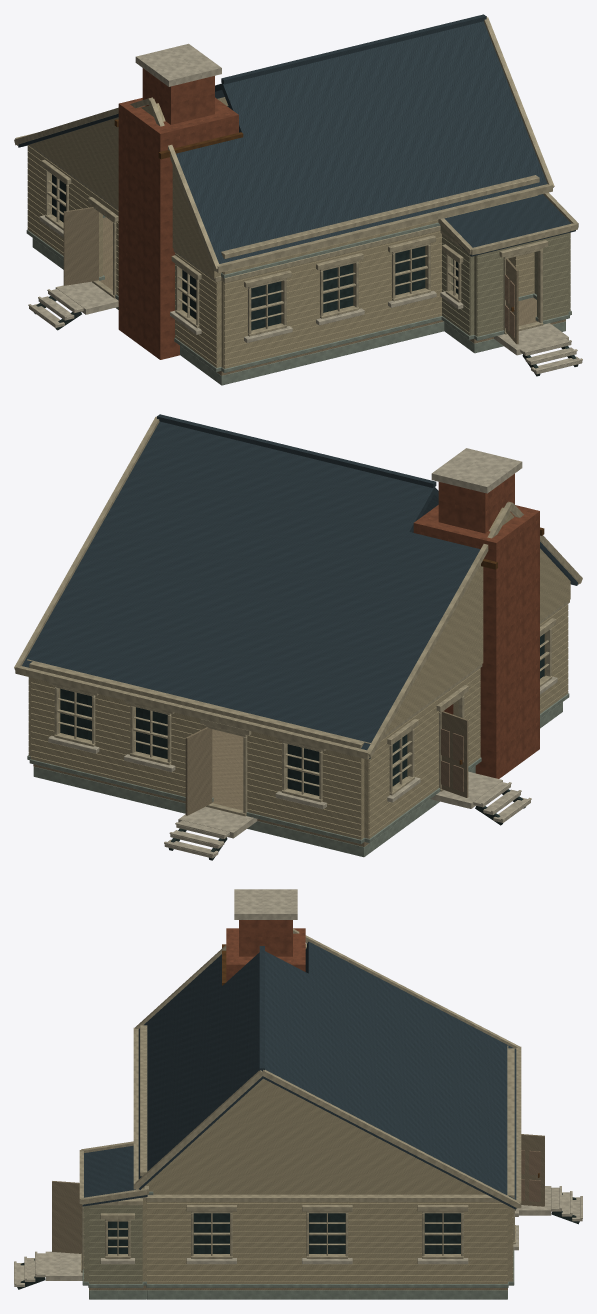
The picture shows the model from 3 angles, top to bottom: view 1: azimuth 30°, elevation 25°; view 2: azimuth 150°, elevation 25°; view 3: azimuth 270°, elevation 25°; orthographic projection. The views are drawn at different scales.
Visible parts, largest first — view 1: A011-04_11_Roof_Saltbox, A011-04_02_Clapboard, A011-04_13_Chimney_Shoulder, A011-04_04_Architectural_Trim, A011-04_01_Wall_Shell, A011-04_12_Roof_Edges, A011-04_03_Window_Door_Frames, A011-04_07_Floors, A011-04_06_Glazing, A011-04_11_Roof_Entry_Bay, A011-04_00_Foundation, A011-04_05_Door_Leaf_01 (+5 smaller); view 2: A011-04_11_Roof_Saltbox, A011-04_02_Clapboard, A011-04_13_Chimney_Shoulder, A011-04_04_Architectural_Trim, A011-04_01_Wall_Shell, A011-04_12_Roof_Edges, A011-04_03_Window_Door_Frames, A011-04_07_Floors, A011-04_06_Glazing, A011-04_00_Foundation, A011-04_13_Chimney_Stack, A011-04_08_Stairs (+3 smaller); view 3: A011-04_11_Roof_Saltbox, A011-04_02_Clapboard, A011-04_01_Wall_Shell, A011-04_04_Architectural_Trim, A011-04_12_Roof_Edges, A011-04_06_Glazing, A011-04_00_Foundation, A011-04_03_Window_Door_Frames, A011-04_07_Floors, A011-04_11_Roof_Entry_Bay, A011-04_05_Door_Leaf_02, A011-04_13_Chimney_Cap (+4 smaller).
Boxes of the visible parts, x1=… form: A011-04_11_Roof_Saltbox: x1=18, y1=14, x2=547, y2=263; A011-04_02_Clapboard: x1=27, y1=145, x2=570, y2=368; A011-04_13_Chimney_Shoulder: x1=118, y1=97, x2=238, y2=359; A011-04_04_Architectural_Trim: x1=26, y1=97, x2=571, y2=372; A011-04_01_Wall_Shell: x1=31, y1=98, x2=569, y2=368; A011-04_12_Roof_Edges: x1=14, y1=16, x2=578, y2=272; A011-04_03_Window_Door_Frames: x1=45, y1=169, x2=543, y2=336; A011-04_07_Floors: x1=55, y1=217, x2=568, y2=375; A011-04_06_Glazing: x1=52, y1=106, x2=458, y2=330; A011-04_11_Roof_Entry_Bay: x1=444, y1=194, x2=575, y2=256; A011-04_00_Foundation: x1=32, y1=238, x2=565, y2=385; A011-04_05_Door_Leaf_01: x1=63, y1=207, x2=98, y2=285; A011-04_11_Roof_Saltbox: x1=22, y1=414, x2=577, y2=758; A011-04_02_Clapboard: x1=28, y1=604, x2=568, y2=839; A011-04_13_Chimney_Shoulder: x1=413, y1=505, x2=539, y2=778; A011-04_04_Architectural_Trim: x1=27, y1=600, x2=569, y2=843; A011-04_01_Wall_Shell: x1=29, y1=507, x2=570, y2=838; A011-04_12_Roof_Edges: x1=14, y1=416, x2=582, y2=759; A011-04_03_Window_Door_Frames: x1=54, y1=627, x2=552, y2=816; A011-04_07_Floors: x1=33, y1=729, x2=502, y2=846; A011-04_06_Glazing: x1=60, y1=634, x2=544, y2=795; A011-04_00_Foundation: x1=33, y1=702, x2=562, y2=857; A011-04_13_Chimney_Stack: x1=438, y1=473, x2=514, y2=533; A011-04_08_Stairs: x1=164, y1=782, x2=531, y2=858; A011-04_11_Roof_Saltbox: x1=138, y1=941, x2=516, y2=1209; A011-04_02_Clapboard: x1=83, y1=1188, x2=513, y2=1283; A011-04_01_Wall_Shell: x1=84, y1=944, x2=512, y2=1283; A011-04_04_Architectural_Trim: x1=82, y1=1025, x2=518, y2=1287; A011-04_12_Roof_Edges: x1=79, y1=928, x2=521, y2=1208; A011-04_06_Glazing: x1=108, y1=1213, x2=460, y2=1253; A011-04_00_Foundation: x1=89, y1=1290, x2=507, y2=1299; A011-04_03_Window_Door_Frames: x1=81, y1=1204, x2=515, y2=1272; A011-04_07_Floors: x1=45, y1=1186, x2=551, y2=1290; A011-04_11_Roof_Entry_Bay: x1=82, y1=1145, x2=147, y2=1206; A011-04_05_Door_Leaf_02: x1=52, y1=1181, x2=81, y2=1253; A011-04_13_Chimney_Cap: x1=234, y1=889, x2=297, y2=919.
Size of the model in its own units: 12.04 by 8.03 by 15.76.
12 materials, 12 textured.
